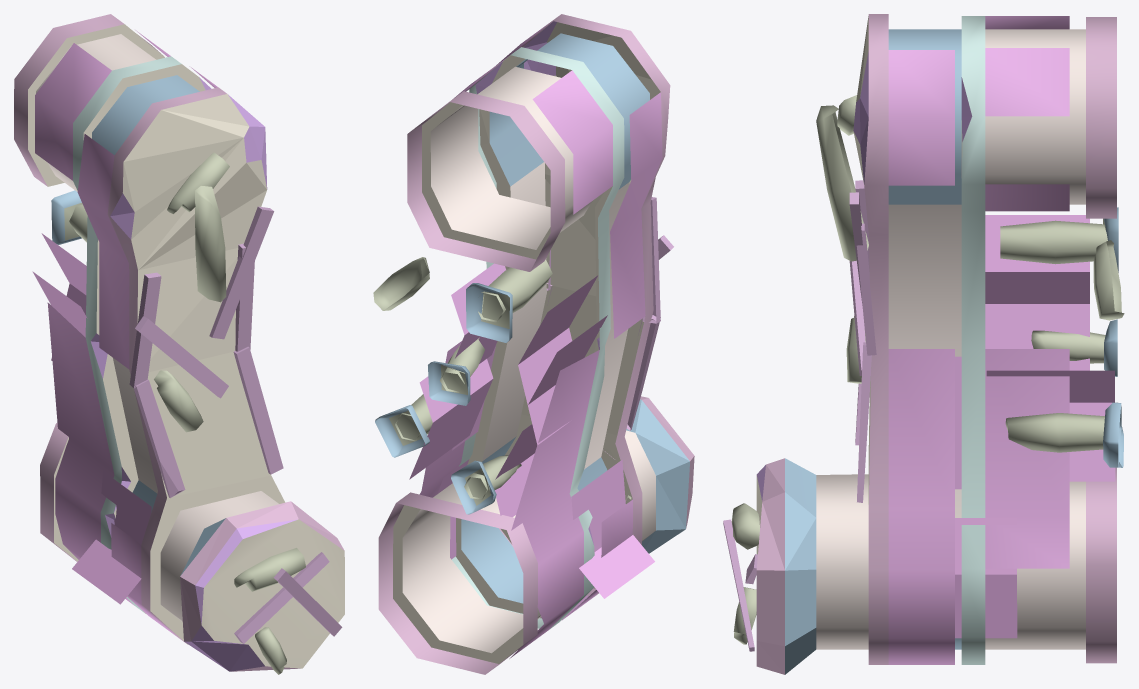
The picture shows the model from 3 angles, left to right: view 1: azimuth 30°, elevation 25°; view 2: azimuth 150°, elevation 25°; view 3: azimuth 270°, elevation 25°; orthographic projection. The views are drawn at different scales.
Parts seen in each view (by area): view 1: Object34; view 2: Object34; view 3: Object34.
Boxes of the visible parts, x1=… form: Object34: x1=14, y1=14, x2=344, y2=674; Object34: x1=373, y1=14, x2=694, y2=674; Object34: x1=723, y1=14, x2=1124, y2=674.
Size of the model in its own units: 17798 by 51899 by 30901.
